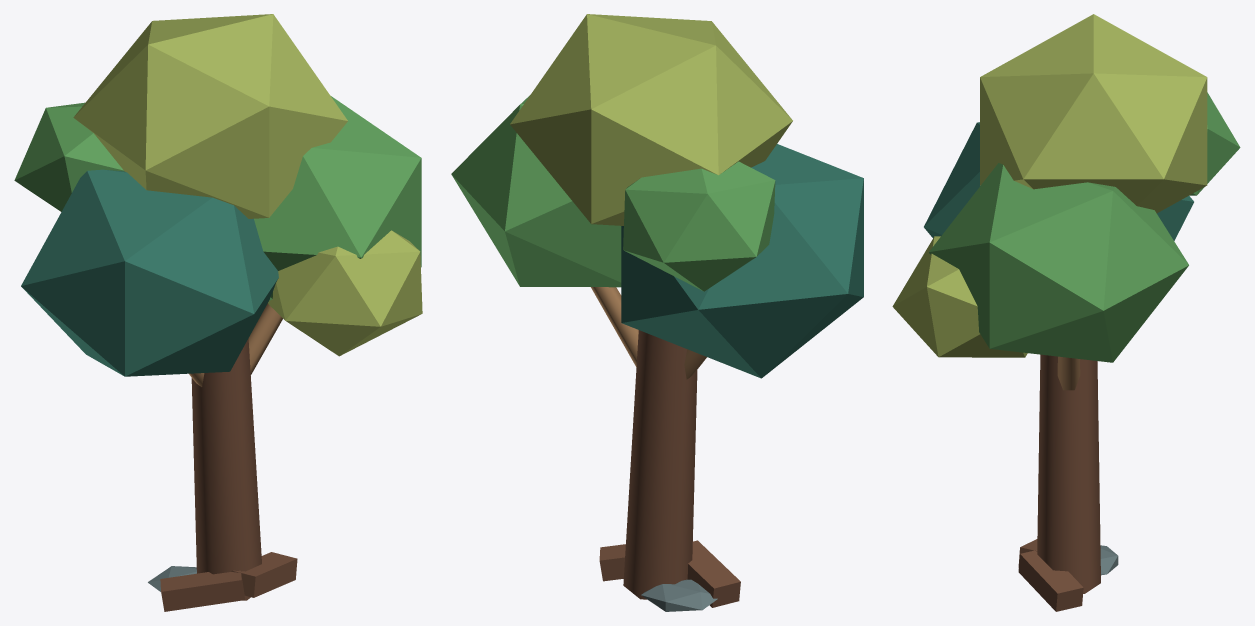
Rendered from tree.glb.
3 renders of one model, left to right at view 1: azimuth 30°, elevation 25°; view 2: azimuth 150°, elevation 25°; view 3: azimuth 270°, elevation 25°, orthographic. The views are drawn at different scales.
Bounding box in the file's own units: 4.3 × 5.99 × 3.51.
